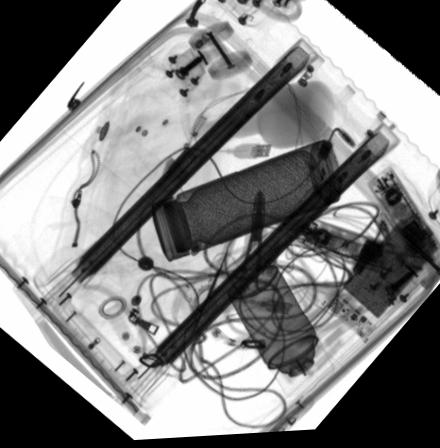Powerbank: (322, 213, 440, 345)
Scissors: (221, 186, 282, 302)
Sprayer: (226, 266, 333, 401)
